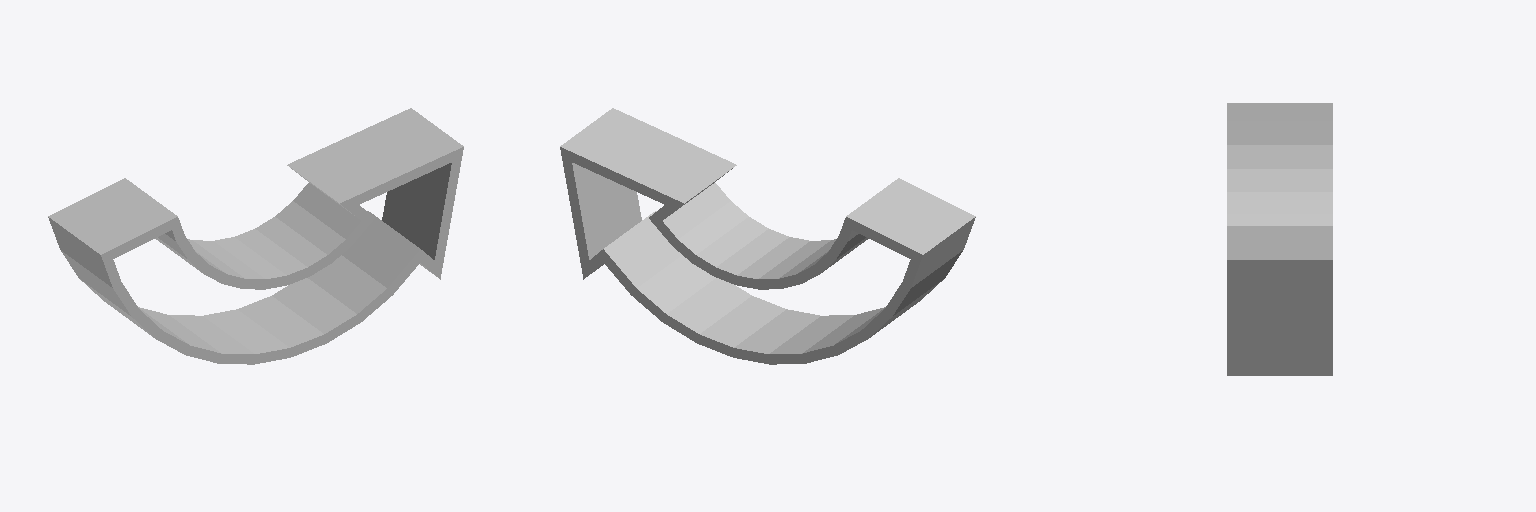
File: Arrow_39.obj
3 renders of one model, left to right at view 1: azimuth 30°, elevation 25°; view 2: azimuth 150°, elevation 25°; view 3: azimuth 270°, elevation 25°, orthographic.
Visible parts, largest first — view 1: Arrow_39; view 2: Arrow_39; view 3: Arrow_39.
Part boxes in pixels (x1,y1,x2,y2): Arrow_39: (48, 108, 463, 364); Arrow_39: (560, 108, 975, 364); Arrow_39: (1227, 103, 1332, 375).
Bounding box in the file's own units: 3.38 × 1.5 × 0.8531.